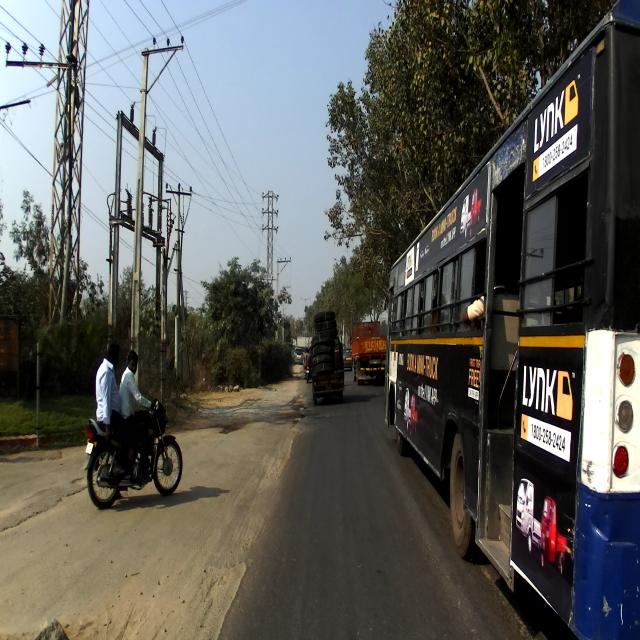bus ahead at: (379, 2, 639, 639)
motorcycle ahead at: (85, 396, 189, 516)
truck ahead at: (303, 301, 349, 408)
